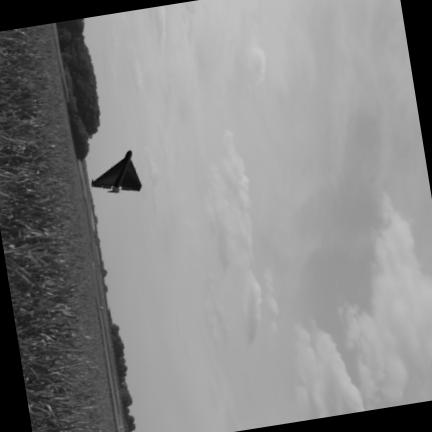Shahed: (91, 151, 140, 193)
